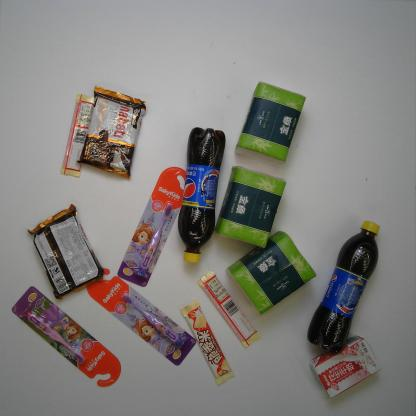Chocolate: (197, 270, 260, 353), (178, 301, 234, 387), (61, 94, 96, 177)
Dessert: (25, 203, 103, 300), (79, 86, 146, 180)
Drink: (308, 220, 380, 352), (178, 127, 226, 266)
Milk: (309, 334, 381, 397)
Personal Hygiene: (9, 287, 123, 389), (87, 264, 198, 367), (112, 164, 193, 285)
Tissue: (229, 228, 316, 316), (214, 163, 287, 248), (237, 81, 306, 160)
